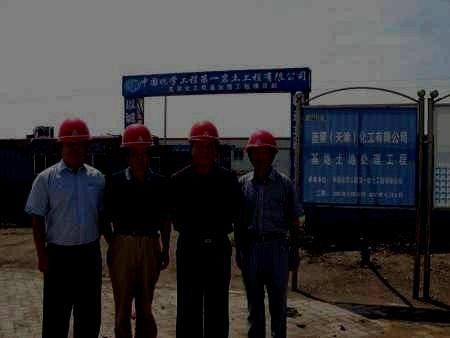helmet: (56, 116, 91, 166), (120, 123, 154, 173), (187, 120, 221, 168), (243, 129, 279, 171)
